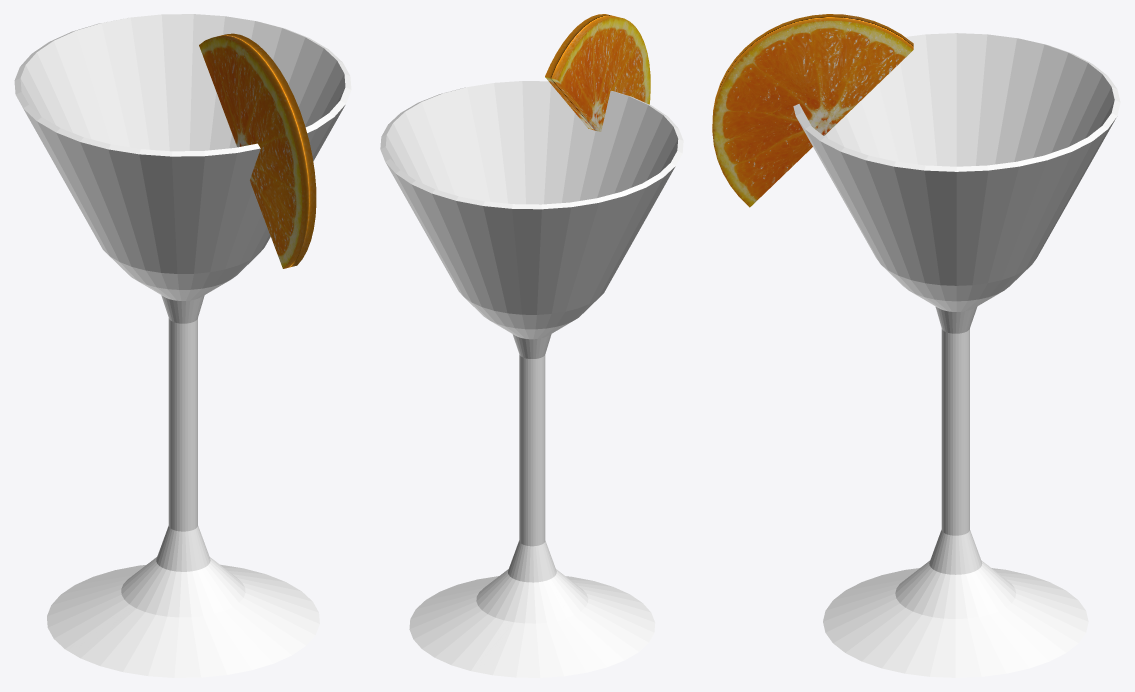
The model's file is 오렌지술잔합친거.fbx.
The picture shows the model from 3 angles, left to right: view 1: azimuth 30°, elevation 25°; view 2: azimuth 150°, elevation 25°; view 3: azimuth 270°, elevation 25°; orthographic projection. The views are drawn at different scales.
Parts seen in each view (by area): view 1: Cylinder.001; view 2: Cylinder.001; view 3: Cylinder.001.
Boxes of the visible parts, bbox=[...] form: Cylinder.001: bbox=[14, 14, 351, 677]; Cylinder.001: bbox=[380, 14, 683, 677]; Cylinder.001: bbox=[712, 14, 1120, 677].
Bounding box in the file's own units: 200 × 407 × 249.
